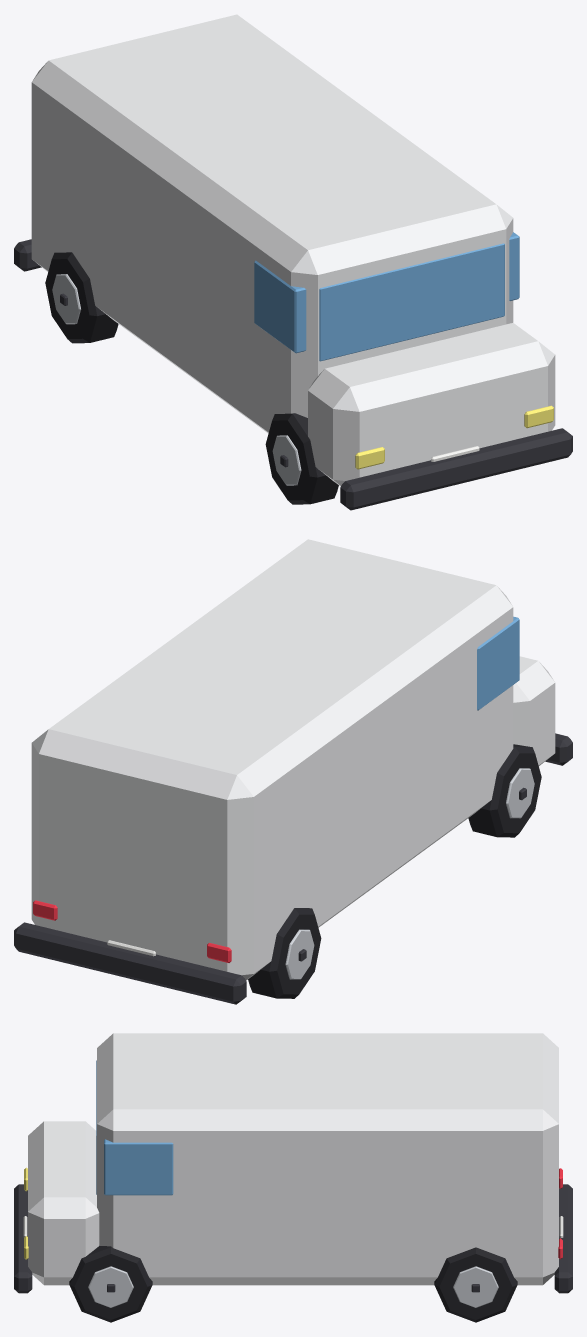
File: WhiteVan.fbx
3 renders of one model, top to bottom at view 1: azimuth 30°, elevation 25°; view 2: azimuth 150°, elevation 25°; view 3: azimuth 270°, elevation 25°, orthographic. The views are drawn at different scales.
Parts seen in each view (by area): view 1: WhiteVan, WhiteVan_WheelFR, WhiteVan_WheelBR; view 2: WhiteVan, WhiteVan_WheelFR, WhiteVan_WheelBR; view 3: WhiteVan, WhiteVan_WheelFL, WhiteVan_WheelBL.
Part boxes in pixels (x1=…): WhiteVan: x1=14, y1=14, x2=572, y2=510; WhiteVan_WheelFR: x1=265, y1=413, x2=338, y2=504; WhiteVan_WheelBR: x1=45, y1=252, x2=118, y2=343; WhiteVan: x1=14, y1=539, x2=572, y2=1004; WhiteVan_WheelFR: x1=468, y1=744, x2=541, y2=837; WhiteVan_WheelBR: x1=248, y1=908, x2=321, y2=998; WhiteVan: x1=14, y1=1033, x2=572, y2=1293; WhiteVan_WheelFL: x1=69, y1=1245, x2=152, y2=1322; WhiteVan_WheelBL: x1=434, y1=1247, x2=517, y2=1322.
Size of the model in its own units: 5.02 by 4.93 by 12.1.
Materials: 1 (1 with a texture image).
